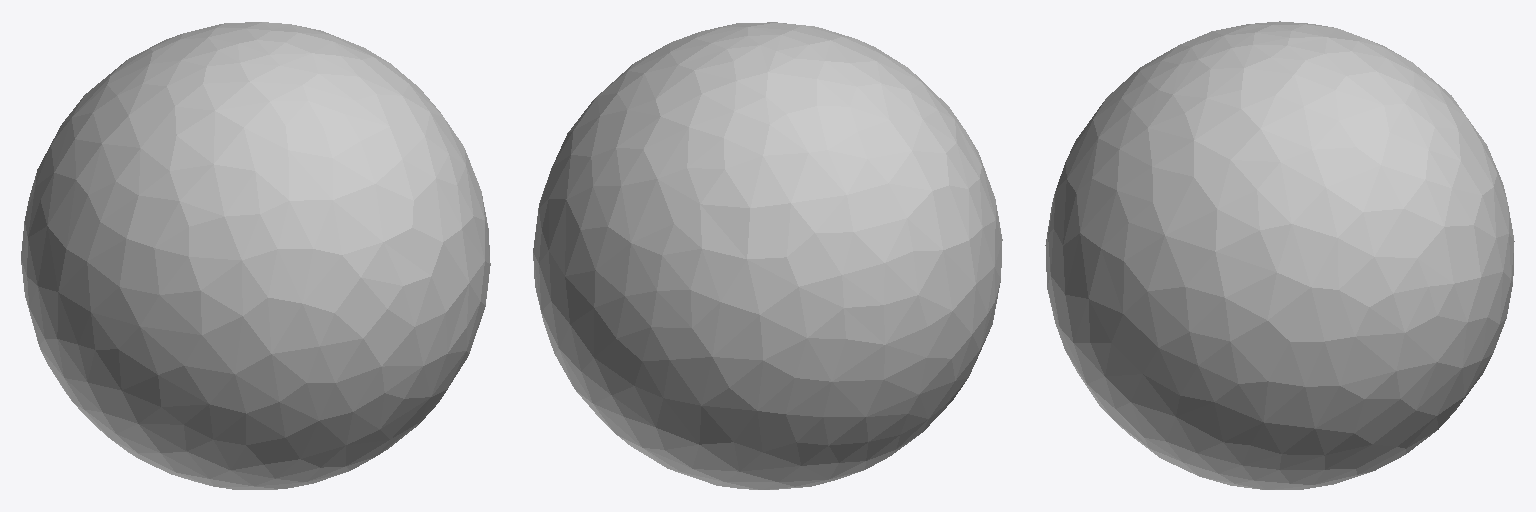
The model's file is Moon.obj.
3 renders of one model, left to right at view 1: azimuth 30°, elevation 25°; view 2: azimuth 150°, elevation 25°; view 3: azimuth 270°, elevation 25°, orthographic.
Visible parts, largest first — view 1: Earth_Sphere.005; view 2: Earth_Sphere.005; view 3: Earth_Sphere.005.
Part boxes in pixels (x1,y1,x2,y2): Earth_Sphere.005: (21,22,490,489); Earth_Sphere.005: (533,22,1002,489); Earth_Sphere.005: (1045,21,1514,489).
Size of the model in its own units: 19.99 by 20.01 by 20.02.